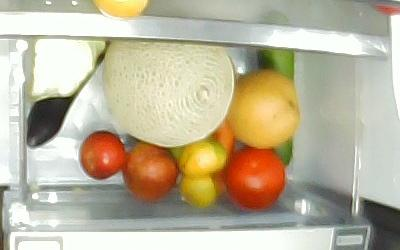cabbage: (32, 37, 106, 103)
carrot: (214, 118, 235, 195)
eggplant: (25, 42, 108, 148)
melon: (105, 37, 233, 148)
pear: (226, 71, 301, 145)
prune: (123, 142, 179, 202), (79, 131, 125, 181)
tangerine: (177, 139, 226, 176), (179, 171, 219, 207)
tomato: (224, 146, 286, 211)
zucchini: (255, 48, 295, 165)
